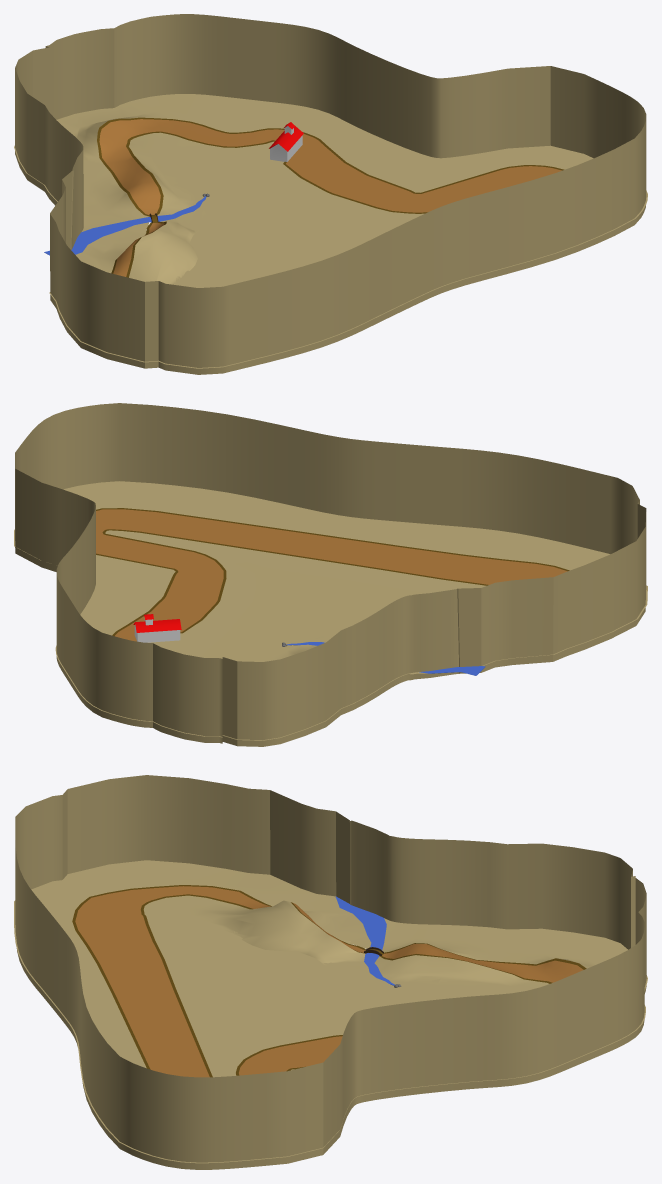
File: Sertão v1.fbx
3 renders of one model, top to bottom at view 1: azimuth 30°, elevation 25°; view 2: azimuth 150°, elevation 25°; view 3: azimuth 270°, elevation 25°, orthographic. The views are drawn at different scales.
Visible parts, largest first — view 1: Parede_Invisivel, Fundo1, Pista, Rio, Igrejinha; view 2: Parede_Invisivel, Fundo1, Pista, Igrejinha; view 3: Parede_Invisivel, Fundo1, Pista, Rio.
Part boxes in pixels (bbox=[...]): Parede_Invisivel: bbox=[15, 14, 646, 374]; Fundo1: bbox=[14, 94, 647, 368]; Pista: bbox=[97, 117, 564, 277]; Rio: bbox=[44, 196, 206, 255]; Igrejinha: bbox=[269, 122, 303, 161]; Parede_Invisivel: bbox=[15, 403, 646, 746]; Fundo1: bbox=[14, 481, 647, 740]; Pista: bbox=[96, 508, 569, 641]; Igrejinha: bbox=[133, 614, 181, 642]; Parede_Invisivel: bbox=[15, 775, 646, 1169]; Fundo1: bbox=[14, 860, 647, 1163]; Pista: bbox=[72, 885, 586, 1077]; Rio: bbox=[335, 896, 394, 985].
Bounding box in the file's own units: 32.76 × 4.75 × 28.9.
